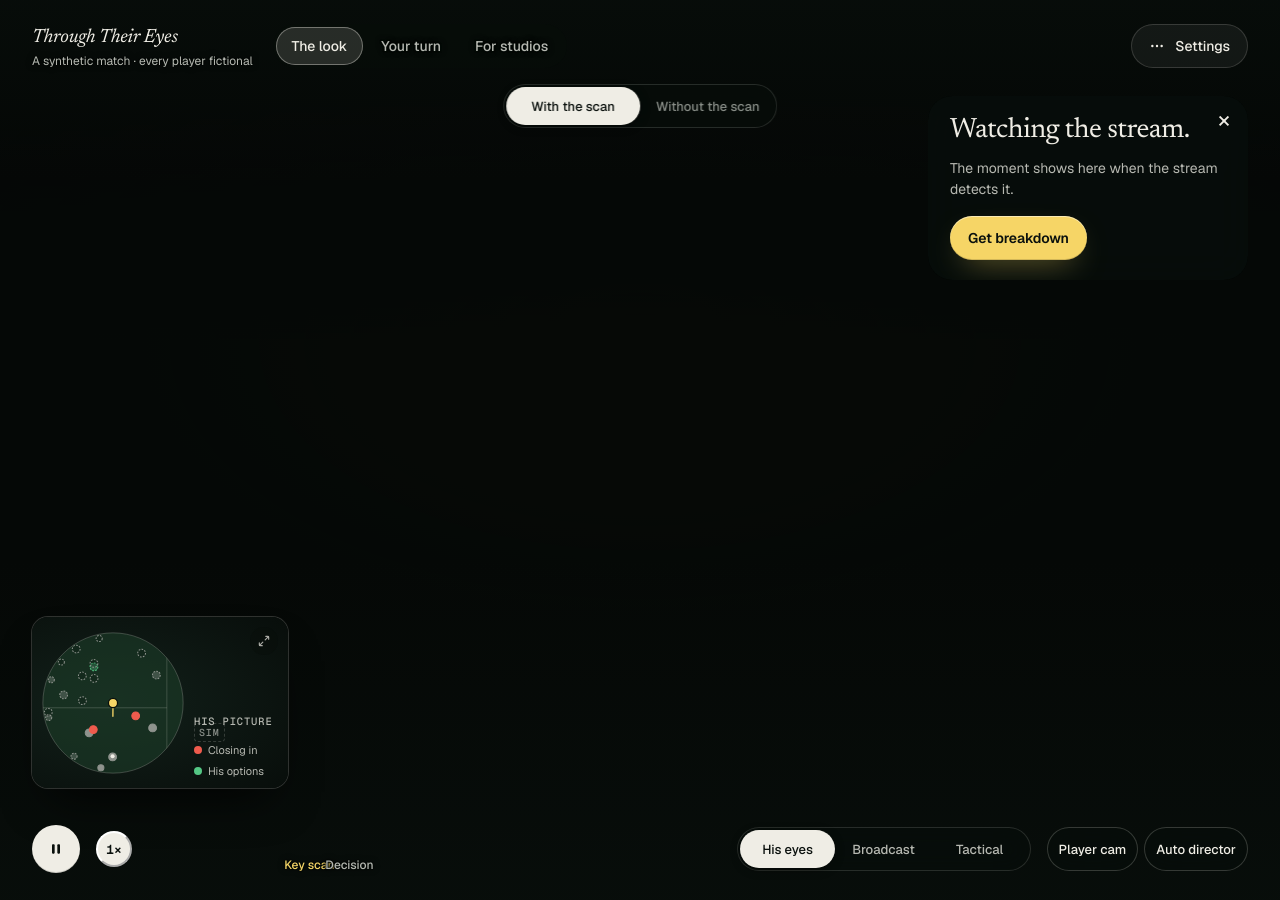
Scenario: the run without the look › locks Without the look until the moment, and the breakdown still autoplays
Click the button "Without the scan".
click(707, 106)  # box [640, 87, 774, 125]
(page scrolled)
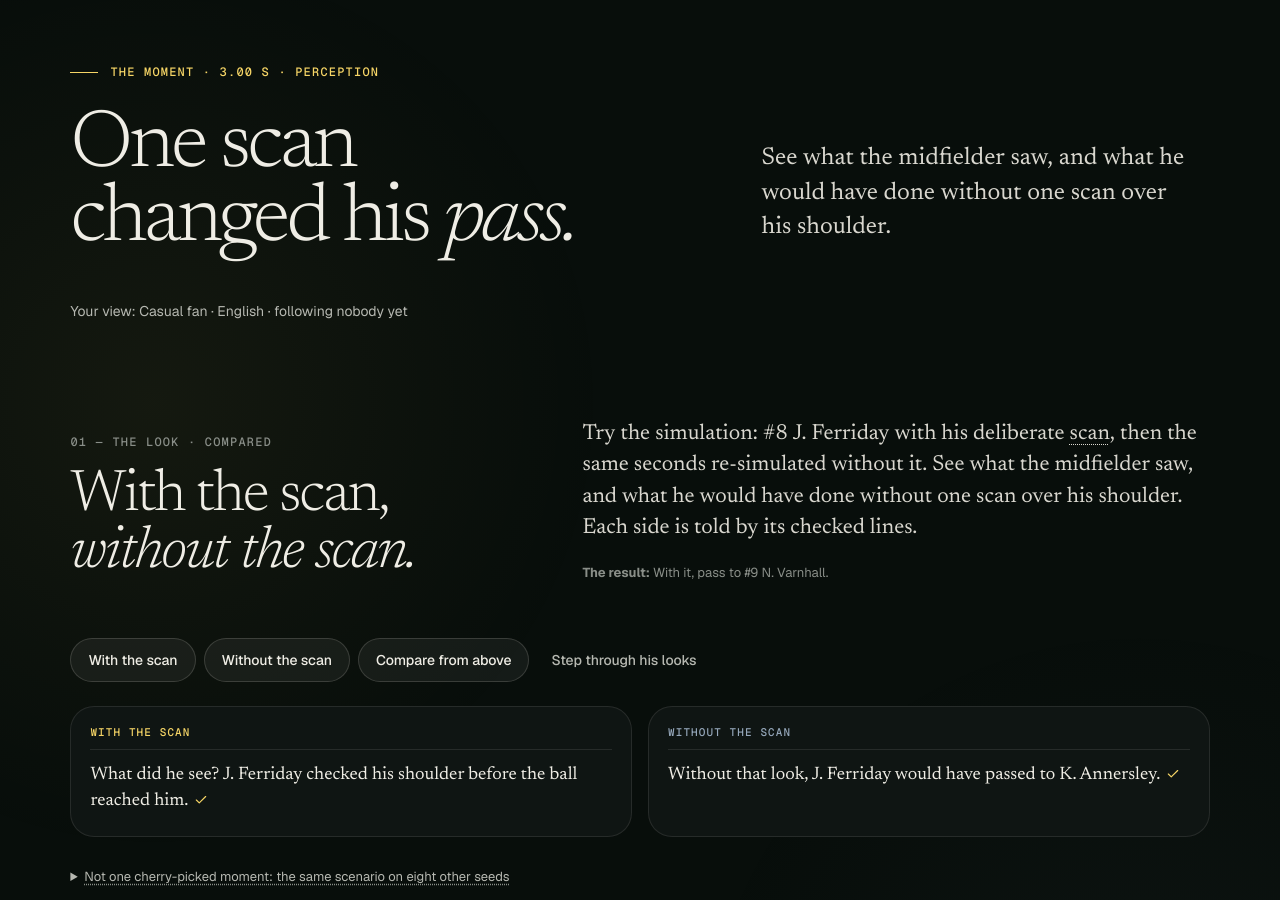
Now the text "with" is shown, box [894, 418, 936, 450]
